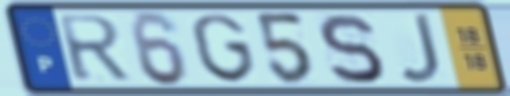5: (253, 9, 317, 88)
6: (127, 8, 191, 89)
G: (188, 12, 260, 86)
J: (395, 11, 445, 86)
R: (54, 13, 135, 84)
S: (314, 11, 387, 86)
